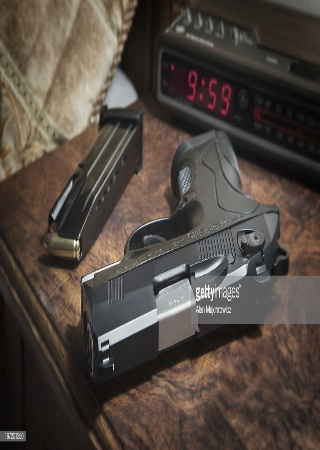handgun: (79, 121, 295, 402)
